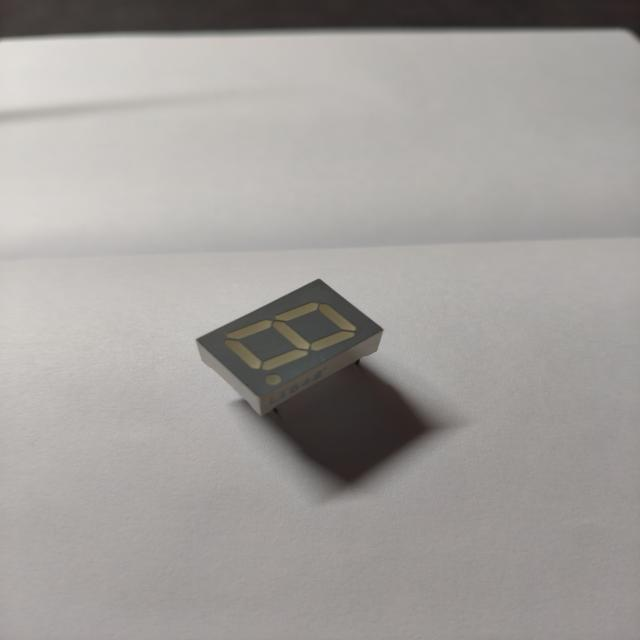sevensegment: (181, 272, 396, 423)
